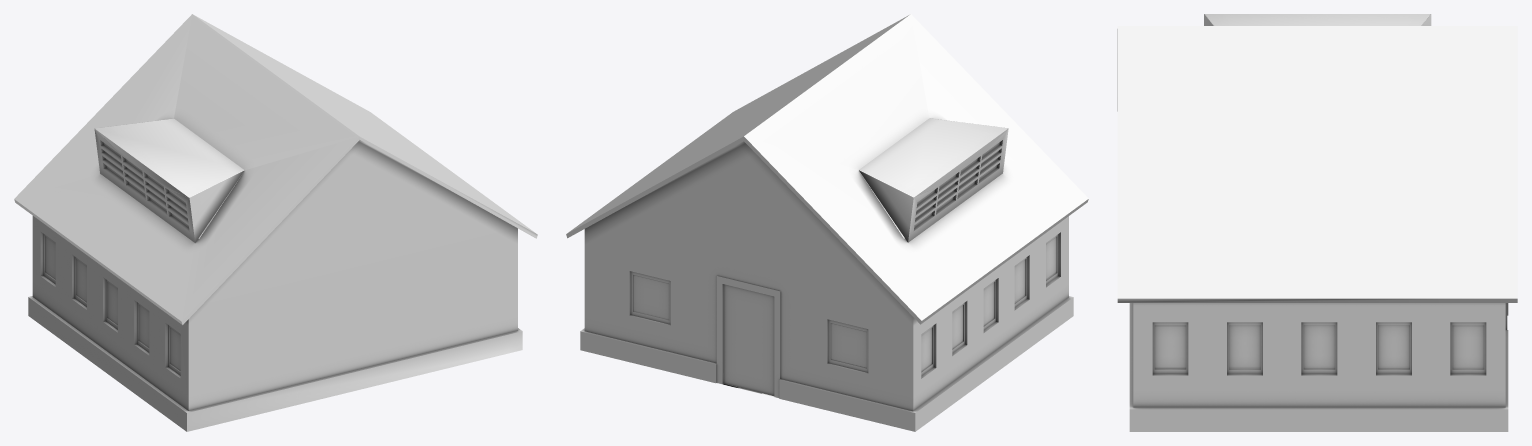
The model's file is SubstandardDep.fbx.
The picture shows the model from 3 angles, left to right: view 1: azimuth 30°, elevation 25°; view 2: azimuth 150°, elevation 25°; view 3: azimuth 270°, elevation 25°; orthographic projection. The views are drawn at different scales.
Visible parts, largest first — view 1: Цех_некондиции; view 2: Цех_некондиции; view 3: Цех_некондиции.
Part boxes in pixels (bbox=[...]): Цех_некондиции: bbox=[14, 14, 537, 431]; Цех_некондиции: bbox=[566, 14, 1088, 431]; Цех_некондиции: bbox=[1117, 14, 1517, 431].
Size of the model in its own units: 0.8114 by 0.5616 by 0.661.
